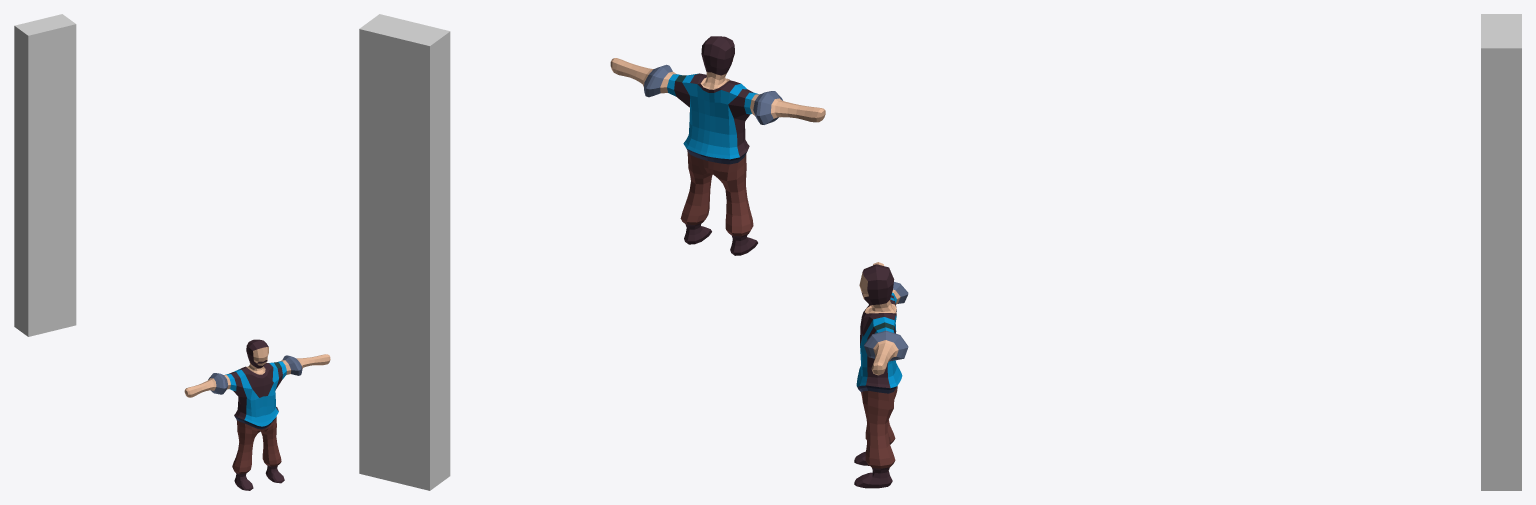
Rendered from Facundo-Valenzuela_MartinFierro 1.fbx.
3 views of the same model, side by side, from view 1: azimuth 30°, elevation 25°; view 2: azimuth 150°, elevation 25°; view 3: azimuth 270°, elevation 25° (orthographic). The views are drawn at different scales.
Parts seen in each view (by area): view 1: Cube.001, Cube; view 2: Cube.001, Cube; view 3: Cube.001, Cube.
Boxes of the visible parts, left/top/right/bottom form: Cube.001: left=14, top=14, right=76, bottom=336; Cube: left=184, top=339, right=330, bottom=490; Cube.001: left=359, top=14, right=450, bottom=490; Cube: left=610, top=36, right=825, bottom=255; Cube.001: left=1481, top=14, right=1521, bottom=490; Cube: left=854, top=262, right=908, bottom=488.
Size of the model in its own units: 180 by 361 by 492.
Materials: 1 (1 with a texture image).
